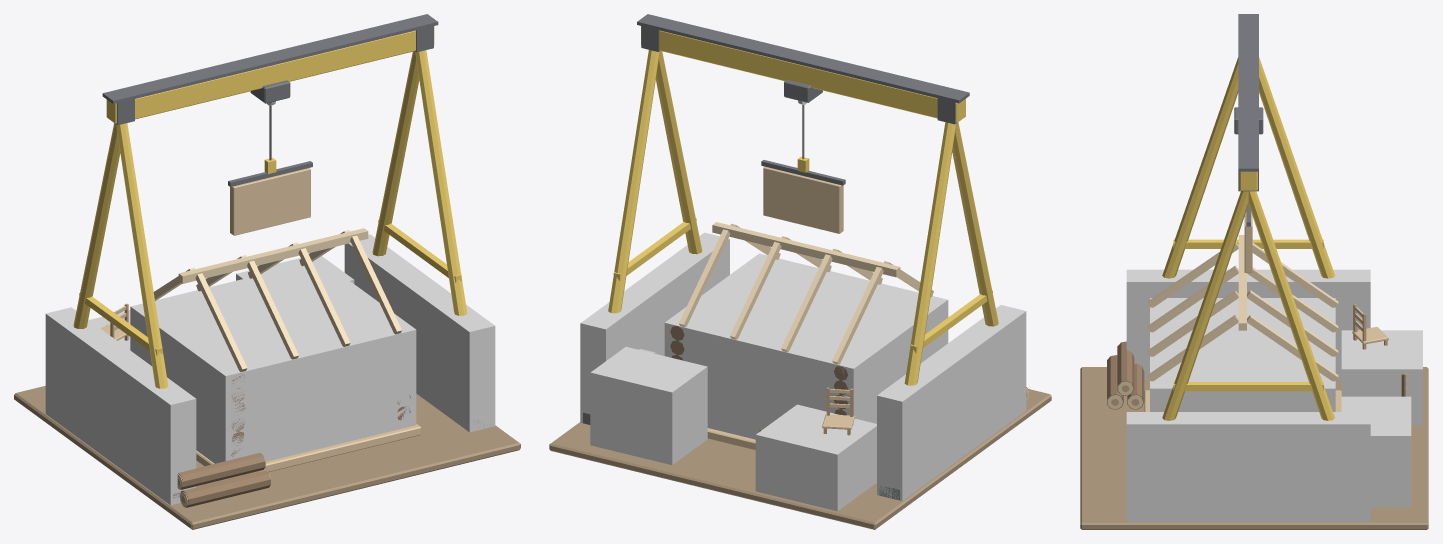
Rendered from CabinBuilder.fbx.
3 renders of one model, left to right at view 1: azimuth 30°, elevation 25°; view 2: azimuth 150°, elevation 25°; view 3: azimuth 270°, elevation 25°, orthographic. The views are drawn at different scales.
Visible parts, largest first — view 1: Base, COL_Cabin, COL_Leg, COL_Leg.001, Hook, Trolley; view 2: Base, COL_Cabin, COL_Leg, COL_Kits, COL_Furniture, COL_Leg.001, Hook, Trolley; view 3: Base, COL_Leg.001, COL_Cabin, COL_Leg, COL_Furniture, COL_Kits, Hook.
Boxes of the visible parts, left/top/right/bottom form: Base: left=14, top=14, right=520, bottom=529; COL_Cabin: left=130, top=260, right=416, bottom=463; COL_Leg: left=45, top=307, right=196, bottom=505; COL_Leg.001: left=344, top=234, right=495, bottom=432; Hook: left=228, top=105, right=312, bottom=235; Trolley: left=250, top=80, right=290, bottom=105; Base: left=549, top=14, right=1051, bottom=529; COL_Cabin: left=664, top=253, right=948, bottom=439; COL_Leg: left=877, top=305, right=1026, bottom=501; COL_Kits: left=590, top=346, right=707, bottom=464; COL_Furniture: left=755, top=404, right=876, bottom=511; COL_Leg.001: left=580, top=232, right=729, bottom=423; Hook: left=761, top=105, right=845, bottom=233; Trolley: left=784, top=79, right=822, bottom=104; Base: left=1080, top=14, right=1428, bottom=529; COL_Leg.001: left=1126, top=412, right=1370, bottom=521; COL_Cabin: left=1150, top=298, right=1335, bottom=411; COL_Leg: left=1126, top=269, right=1370, bottom=379; COL_Furniture: left=1341, top=330, right=1422, bottom=425; COL_Kits: left=1341, top=396, right=1411, bottom=507; Hook: left=1244, top=205, right=1252, bottom=272.
Size of the model in its own units: 6.4 by 6.86 by 6.
